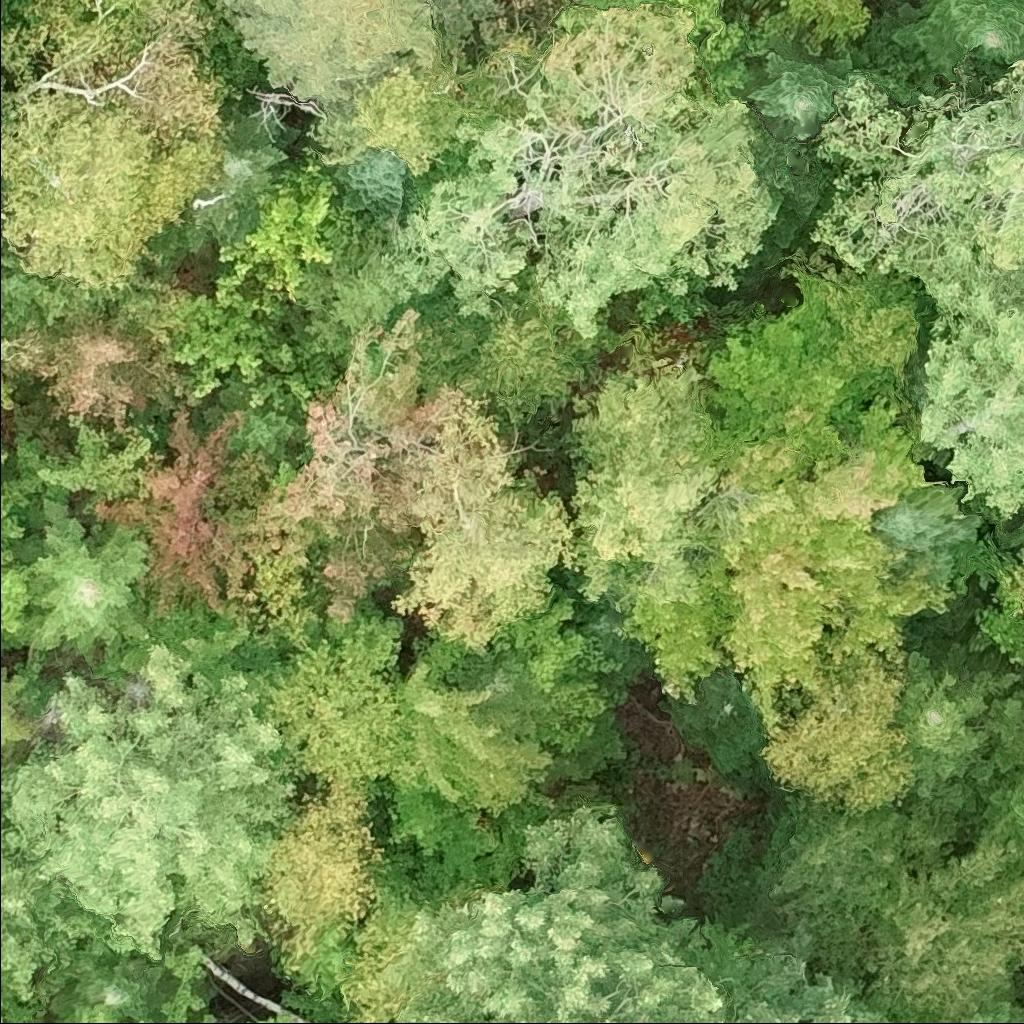crown: (369, 3, 782, 338), (613, 391, 959, 732), (0, 622, 300, 1006), (386, 803, 894, 1023), (234, 302, 466, 622), (382, 596, 621, 890), (806, 59, 1023, 298), (388, 393, 571, 651), (0, 84, 220, 289), (565, 358, 721, 610), (89, 404, 270, 617), (254, 599, 414, 807), (864, 824, 1023, 1023), (915, 254, 1023, 520), (758, 648, 916, 813), (219, 0, 462, 106), (258, 777, 387, 972), (11, 494, 149, 674), (895, 636, 1023, 828), (2, 310, 187, 439), (698, 299, 874, 427), (790, 259, 919, 410), (115, 0, 229, 149), (871, 0, 1023, 103), (180, 112, 287, 258), (2, 0, 178, 82), (734, 34, 861, 147), (330, 874, 425, 1023), (10, 419, 153, 501), (870, 483, 983, 584), (44, 935, 172, 1023), (200, 382, 308, 469), (0, 434, 51, 572), (737, 0, 870, 52), (328, 147, 409, 227), (978, 704, 1023, 842), (136, 943, 207, 1023), (0, 664, 50, 771), (958, 987, 1023, 1023), (73, 997, 135, 1023), (0, 321, 13, 374), (245, 1012, 297, 1023), (1016, 547, 1023, 606), (200, 1011, 221, 1023), (1011, 856, 1023, 874), (1015, 688, 1023, 701)
